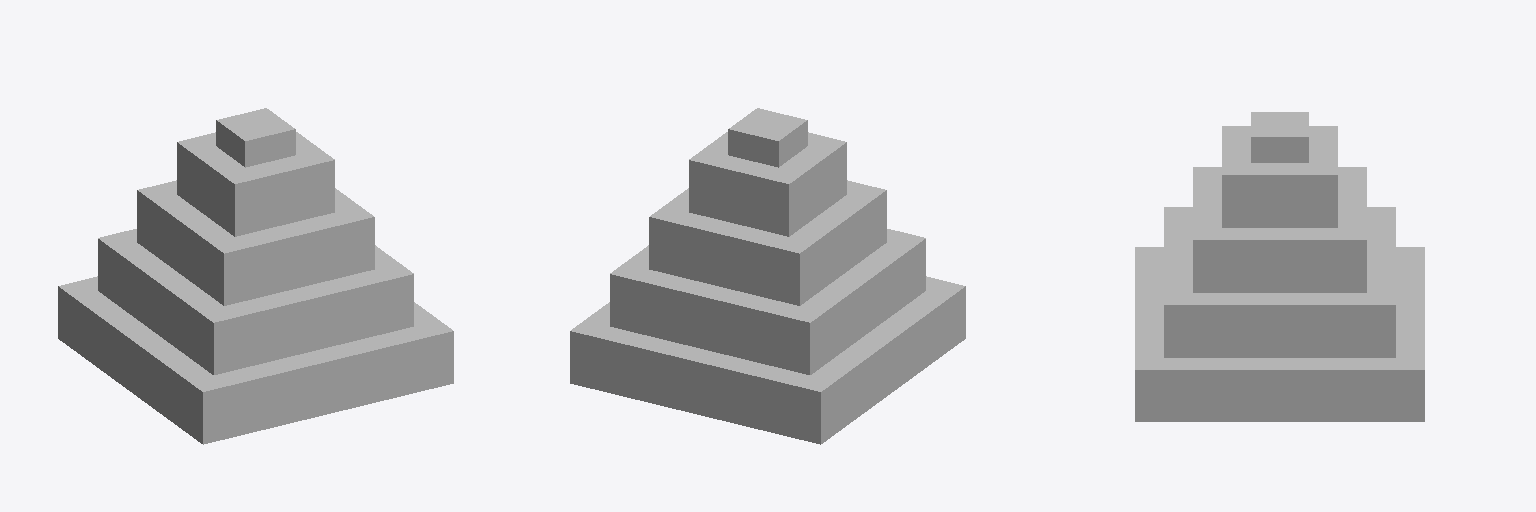
Rendered from Bush3.obj.
3 renders of one model, left to right at view 1: azimuth 30°, elevation 25°; view 2: azimuth 150°, elevation 25°; view 3: azimuth 270°, elevation 25°, orthographic.
Size of the model in its own units: 10 by 10 by 10.